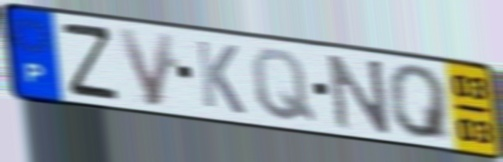K: (193, 37, 248, 118)
N: (324, 52, 394, 136)
Q: (247, 45, 319, 126), (384, 63, 455, 144)
V: (114, 25, 178, 110)
Z: (57, 20, 122, 102)
